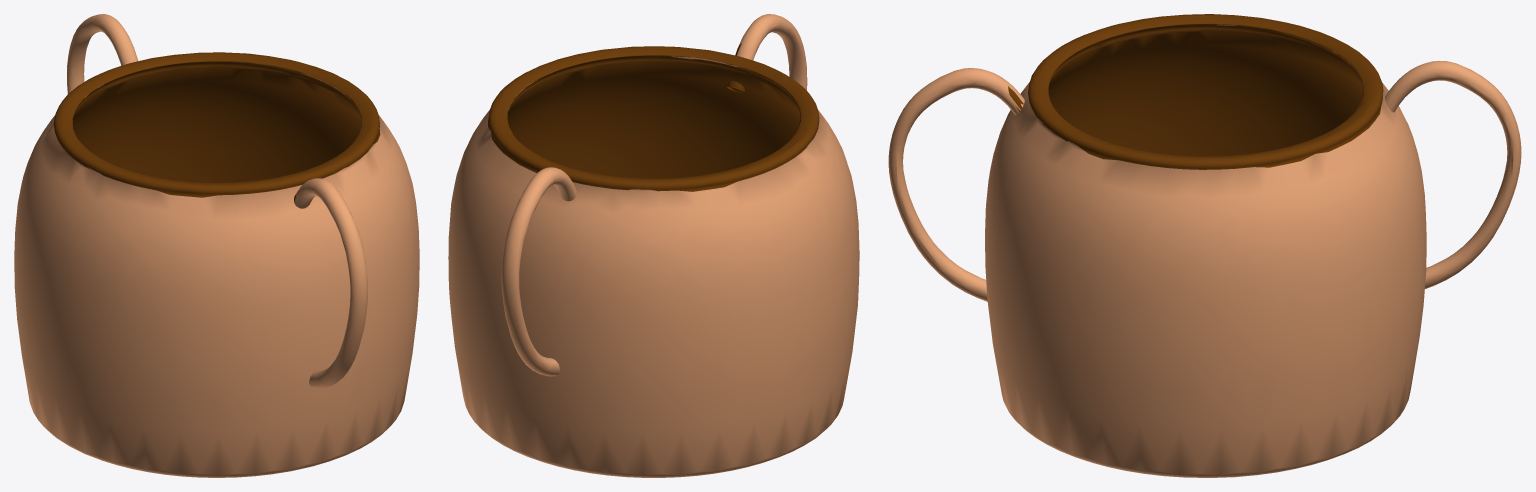
File: borma.fbx
3 views of the same model, side by side, from view 1: azimuth 30°, elevation 25°; view 2: azimuth 150°, elevation 25°; view 3: azimuth 270°, elevation 25° (orthographic). The views are drawn at different scales.
Parts seen in each view (by area): view 1: Cylinder; view 2: Cylinder; view 3: Cylinder.
Boxes of the visible parts, left/top/right/bottom form: Cylinder: left=14, top=14, right=419, bottom=477; Cylinder: left=448, top=14, right=859, bottom=477; Cylinder: left=888, top=14, right=1521, bottom=477.
Size of the model in its own units: 220 by 187 by 315.
